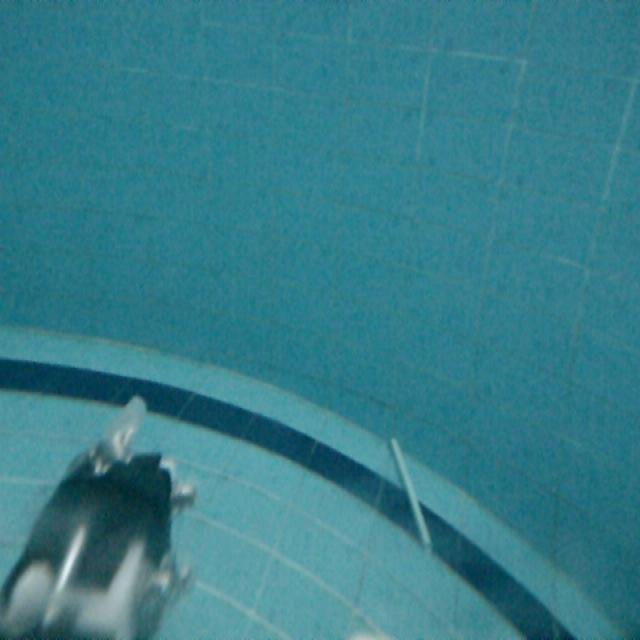Cube: (384, 430, 448, 554)
